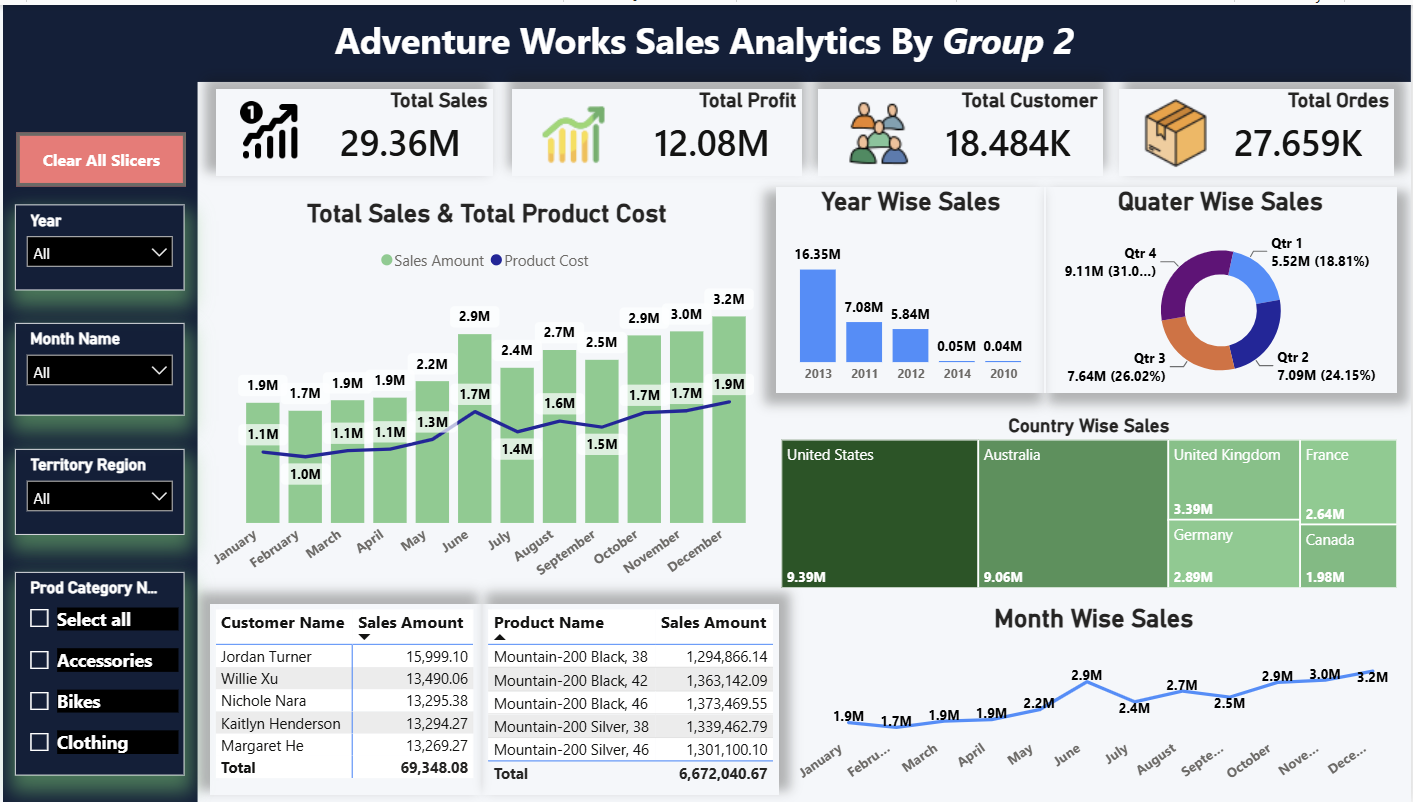

What the dashboard file says about the page in this screenshot:
{"tool":"powerbi","page":{"name":"Page 1","canvas":[1280,720],"ordinal":0},"visuals":[{"type":"shape","box":[10.6,0,175.6,719.2],"z":0},{"type":"shape","box":[10.6,0,1268.9,69.7],"z":1000},{"type":"textbox","box":[301.3,4.5,682.9,69.7],"z":2000},{"type":"cardVisual","title":"Total Sales","fields":{"Data":["Sum(Sales.SalesAmount)"]},"box":[202.9,75.7,249.8,78.7],"z":3000},{"type":"cardVisual","title":"Total Profit","fields":{"Data":["Sum(Sales.Total Profit)"]},"box":[469.4,75.7,262,78.7],"z":4000},{"type":"cardVisual","title":"Total Customer","fields":{"Data":["Count(Sales.CustomerKey)"]},"box":[745,75.7,257.4,78.7],"z":5000},{"type":"cardVisual","title":"Total Ordes","fields":{"Data":["Count(Sales.SalesOrderNumber)"]},"box":[1016,75.7,248.3,78.7],"z":6000},{"type":"lineChart","title":"Month Wise Sales","fields":{"Category":["Sales.Month Name"],"Y":["Sum(Sales.SalesAmount)"]},"box":[720.8,539.1,546.6,171.1],"z":7000},{"type":"slicer","fields":{"Values":["Sales.Year"]},"box":[21.2,180.2,152.9,77.2],"z":8000},{"type":"slicer","fields":{"Values":["Sales.Sales Territory Region"]},"box":[21.2,399.8,152.9,77.2],"z":9000},{"type":"slicer","fields":{"Values":["Sales.Product Category Name"]},"box":[21.2,510.3,152.9,183.2],"z":10000},{"type":"slicer","fields":{"Values":["Sales.Month Name"]},"box":[21.2,286.2,152.9,83.3],"z":11000},{"type":"donutChart","title":"Quater Wise Sales","fields":{"Category":["Sales.Full Date.Variation.Date Hierarchy.Quarter"],"Y":["Sum(Sales.SalesAmount)"]},"box":[949.4,163.5,318,186.2],"z":12000},{"type":"pivotTable","fields":{"Rows":["Sales.Customer Full Name"],"Values":["Sum(Sales.SalesAmount)"]},"box":[196.8,539.1,245.3,172.6],"z":13000},{"type":"tableEx","fields":{"Values":["Sales.English Product Name","Sum(Sales.SalesAmount)"]},"box":[442.1,539.1,268,172.6],"z":14000},{"type":"columnChart","title":"Year Wise Sales","fields":{"Y":["Sum(Sales.SalesAmount)"],"Category":["Sales.Year"]},"box":[707.1,163.5,243.8,186.2],"z":15000},{"type":"lineStackedColumnComboChart","title":"Total Sales & Total Product Cost","fields":{"Category":["Sales.Month Name"],"Y":["Sum(Sales.SalesAmount)"],"Y2":["Sum(Sales.TotalProductCost)"]},"box":[193.8,174.1,507.3,360.4],"z":16000},{"type":"treemap","title":"Country Wise Sales","fields":{"Group":["Sales.Sales Territory Country"],"Values":["Sum(Sales.SalesAmount)"]},"box":[707.1,369.5,564.8,159],"z":17000},{"type":"actionButton","box":[22.7,115.1,152.9,48.5],"z":18000},{"type":"image","box":[218,81.8,68.1,65.1],"z":19000},{"type":"image","box":[487.6,86.3,74.2,60.6],"z":20000},{"type":"image","box":[752.6,83.3,93.9,63.6],"z":21000},{"type":"image","box":[1029.7,83.3,75.7,63.6],"z":22000}]}

Visuals, with their boxes in screenshot pixels (x1, y1, x2, y2), scaled from the page's 1280x720 canvas onto the 1413x802 screenshot:
shape: x1=12 y1=0 x2=206 y2=801
shape: x1=12 y1=0 x2=1412 y2=78
textbox: x1=333 y1=5 x2=1086 y2=83
"Total Sales" cardVisual: x1=224 y1=84 x2=500 y2=172
"Total Profit" cardVisual: x1=518 y1=84 x2=807 y2=172
"Total Customer" cardVisual: x1=822 y1=84 x2=1107 y2=172
"Total Ordes" cardVisual: x1=1122 y1=84 x2=1396 y2=172
"Month Wise Sales" lineChart: x1=796 y1=600 x2=1399 y2=791
slicer - Sales.Year: x1=23 y1=201 x2=192 y2=287
slicer - Sales.Sales Territory Region: x1=23 y1=445 x2=192 y2=531
slicer - Sales.Product Category Name: x1=23 y1=568 x2=192 y2=772
slicer - Sales.Month Name: x1=23 y1=319 x2=192 y2=412
"Quater Wise Sales" donutChart: x1=1048 y1=182 x2=1399 y2=390
pivotTable - Sales.Customer Full Name x Sum(Sales.SalesAmount): x1=217 y1=600 x2=488 y2=793
tableEx - Sales.English Product Name x Sum(Sales.SalesAmount): x1=488 y1=600 x2=784 y2=793
"Year Wise Sales" columnChart: x1=781 y1=182 x2=1050 y2=390
"Total Sales & Total Product Cost" lineStackedColumnComboChart: x1=214 y1=194 x2=774 y2=595
"Country Wise Sales" treemap: x1=781 y1=412 x2=1404 y2=589
actionButton: x1=25 y1=128 x2=194 y2=182
image: x1=241 y1=91 x2=316 y2=164
image: x1=538 y1=96 x2=620 y2=164
image: x1=831 y1=93 x2=934 y2=164
image: x1=1137 y1=93 x2=1220 y2=164
